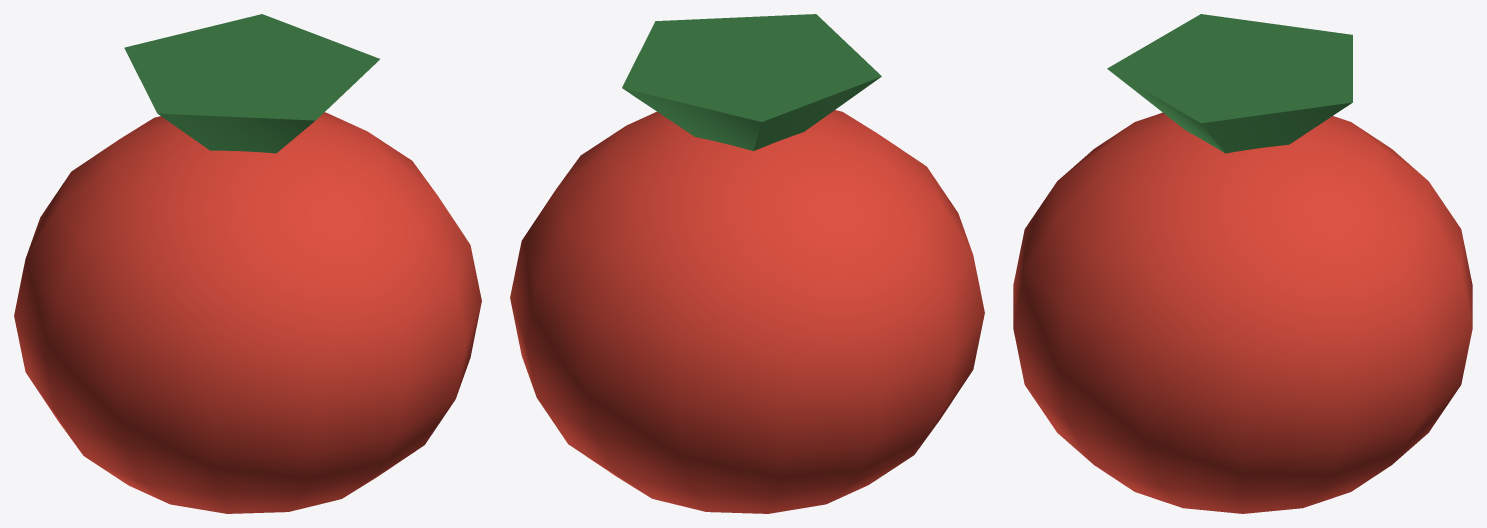
The model's file is product-tomatoes.glb.
3 views of the same model, side by side, from view 1: azimuth 30°, elevation 25°; view 2: azimuth 150°, elevation 25°; view 3: azimuth 270°, elevation 25° (orthographic).
Visible parts, largest first — view 1: n3, n4; view 2: n3, n4; view 3: n3, n4.
Part boxes in pixels (box(x1,y1,x2,y2)): n3: box(14, 112, 481, 513); n4: box(124, 14, 379, 153); n3: box(510, 110, 984, 513); n4: box(622, 14, 881, 150); n3: box(1013, 112, 1472, 513); n4: box(1107, 14, 1352, 153).
Bounding box in the file's own units: 0.18 × 0.1779 × 0.1755.
